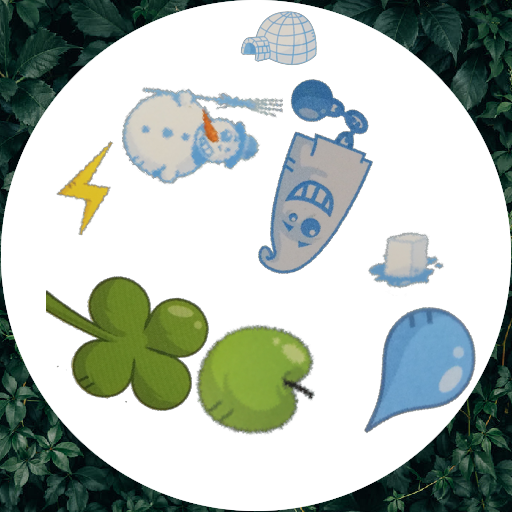apple_icon: (190, 309, 318, 437)
cloverleaf_icon: (46, 240, 224, 418)
cube_icon: (365, 216, 446, 297)
ghost_icon: (207, 79, 413, 285)
igloo_icon: (238, 3, 318, 83)
lightning_icon: (43, 138, 141, 236)
raindrop_icon: (351, 301, 485, 435)
snowman_icon: (122, 43, 283, 204)
